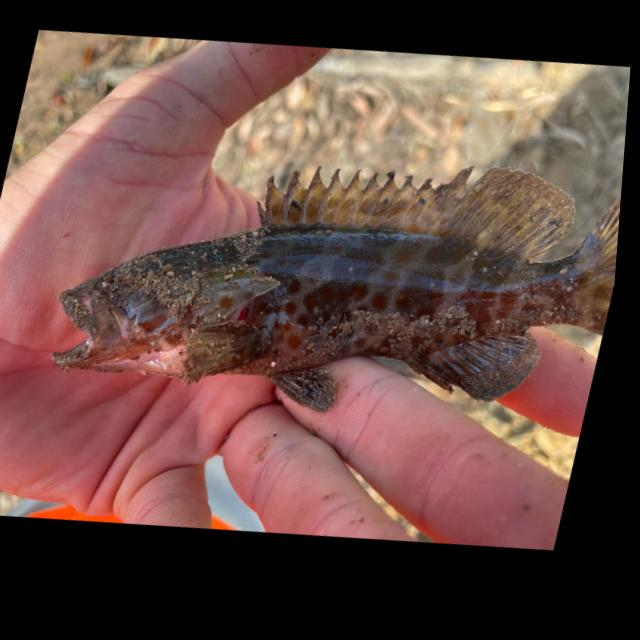Groupers: (28, 87, 629, 480)
